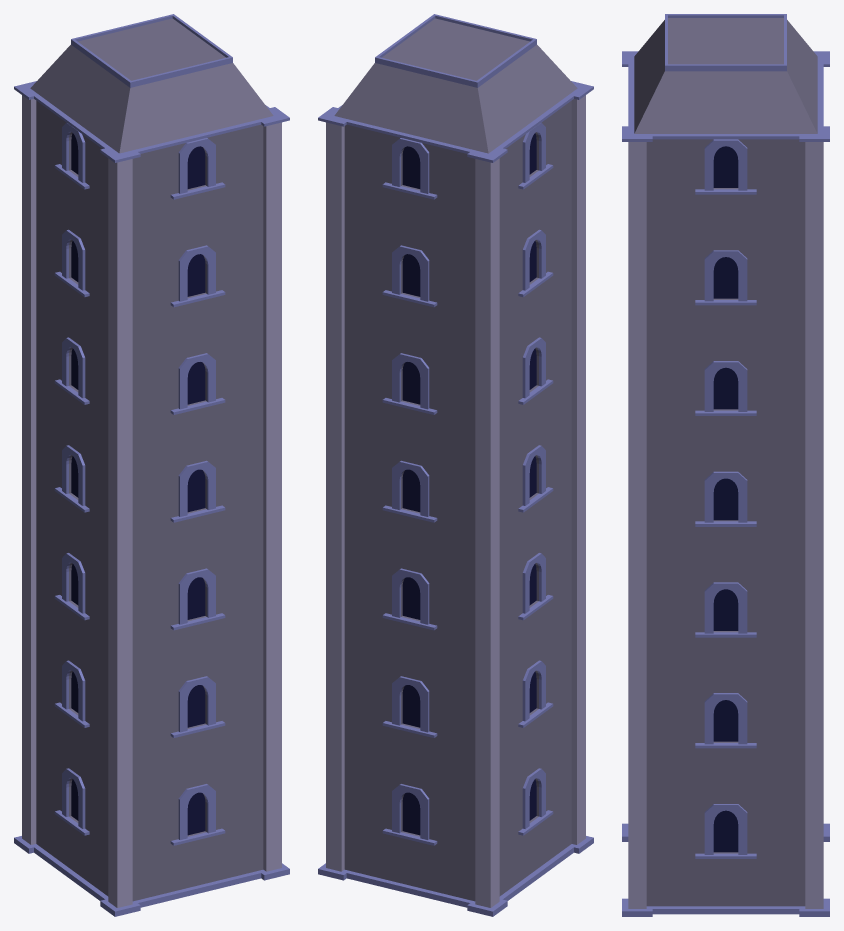
Rendered from House v4.004.fbx.
3 views of the same model, side by side, from view 1: azimuth 30°, elevation 25°; view 2: azimuth 150°, elevation 25°; view 3: azimuth 270°, elevation 25° (orthographic). The views are drawn at different scales.
Parts seen in each view (by area): view 1: Building; view 2: Building; view 3: Building.
Boxes of the visible parts, <box> form: Building: <box>14,14,289,916</box>; Building: <box>318,14,593,916</box>; Building: <box>622,14,829,916</box>.
Size of the model in its own units: 340 by 340 by 1505.
